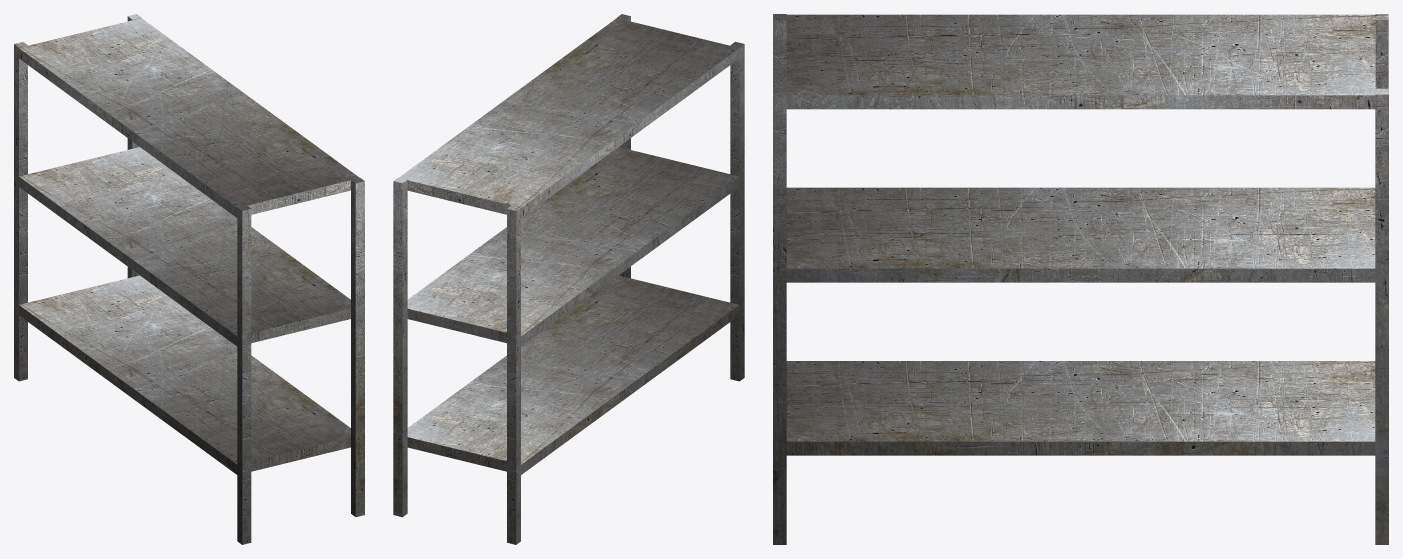
The model's file is shelfModel.fbx.
3 renders of one model, left to right at view 1: azimuth 30°, elevation 25°; view 2: azimuth 150°, elevation 25°; view 3: azimuth 270°, elevation 25°, orthographic. The views are drawn at different scales.
Visible parts, largest first — view 1: Cube; view 2: Cube; view 3: Cube.
Boxes of the visible parts, x1,y1,x2,y2 form: Cube: (14, 14, 364, 544); Cube: (393, 14, 744, 544); Cube: (773, 14, 1388, 544).
Size of the model in its own units: 200 by 520 by 644.
